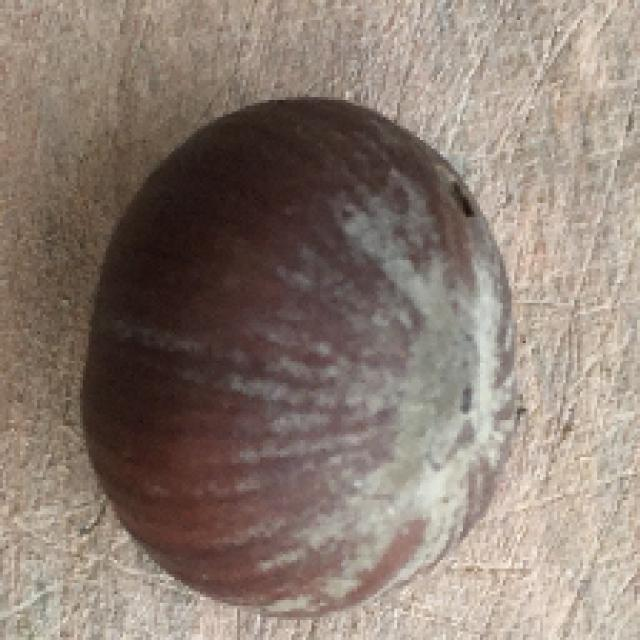damagedHazelnut: (92, 91, 516, 622)
